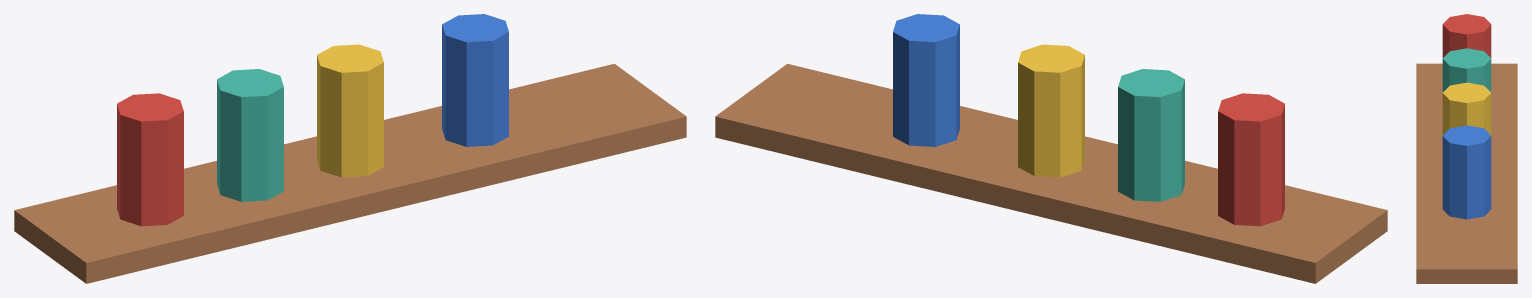
The model's file is Kitchen_Shelf.fbx.
The picture shows the model from 3 angles, left to right: view 1: azimuth 30°, elevation 25°; view 2: azimuth 150°, elevation 25°; view 3: azimuth 270°, elevation 25°; orthographic projection. The views are drawn at different scales.
Visible parts, largest first — view 1: Shelf; view 2: Shelf; view 3: Shelf.
Boxes of the visible parts, bbox=[...] form: Shelf: bbox=[14, 14, 686, 283]; Shelf: bbox=[715, 14, 1387, 283]; Shelf: bbox=[1416, 14, 1517, 283].
Size of the model in its own units: 1.2 by 0.24 by 0.25.
